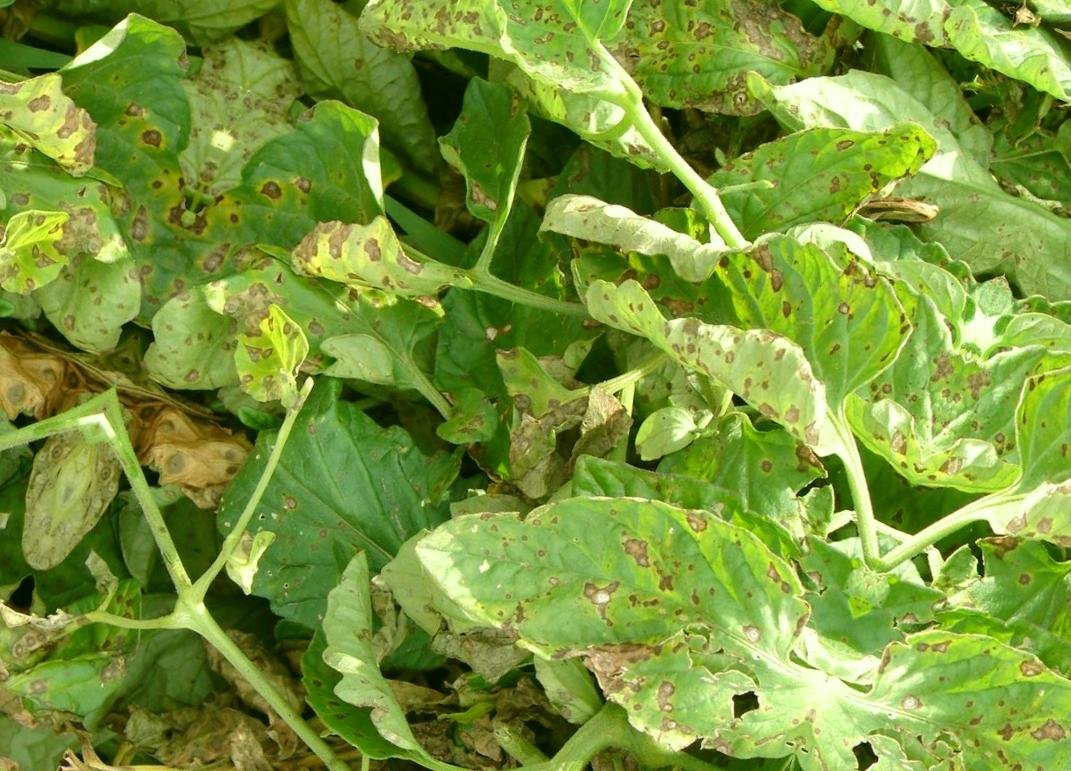Tomato Septoria leaf spot: (362, 404, 870, 771), (550, 164, 934, 478), (740, 208, 1006, 544), (651, 42, 946, 315), (202, 65, 494, 323), (356, 0, 694, 117), (480, 698, 776, 771)
